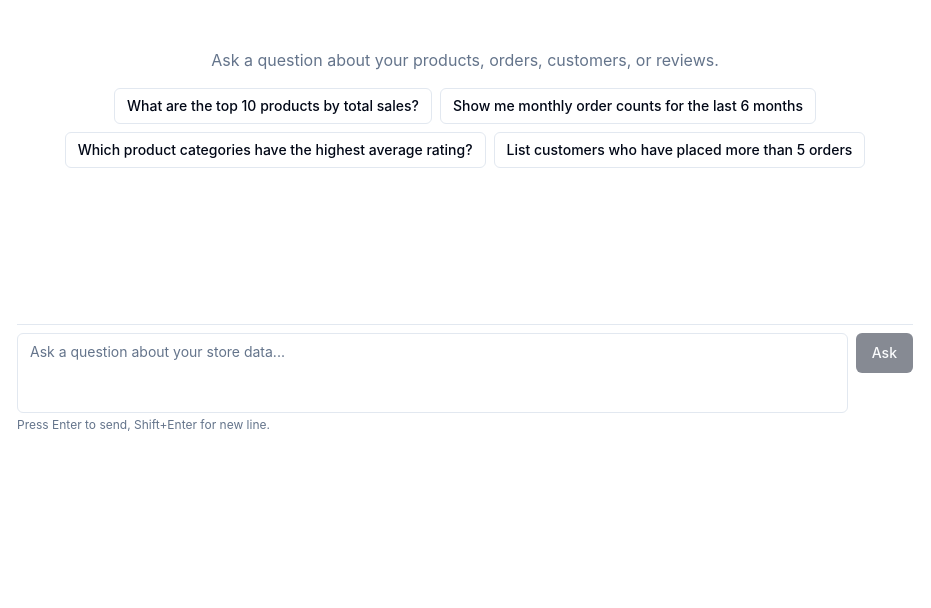
Test: AiAnalyticsChat › renders user message and assistant result on success
Type "Top products?" into the text box with placeholder "Ask a question about your store data..." at (432, 373), box [17,333,848,413]
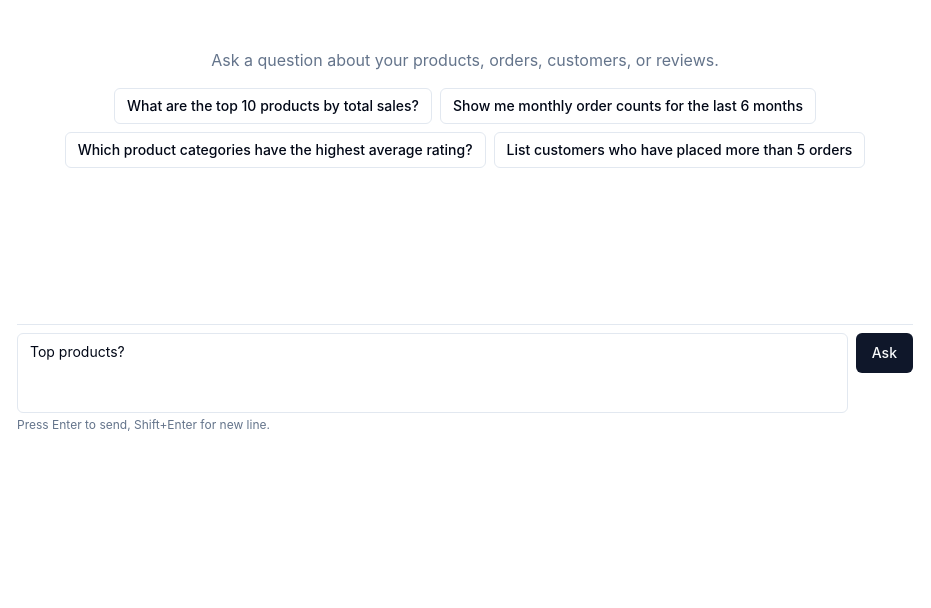
Click the button "Ask" at (884, 353), box [856,333,913,373]
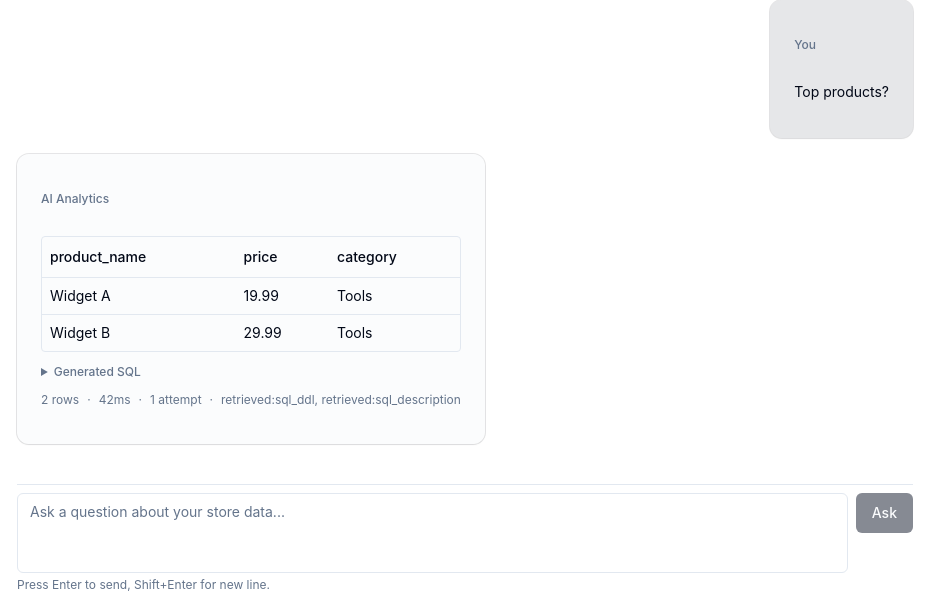
expect the text "Top products?" is shown: met, box [794,82,889,102]
expect the column heading "product_name" is shown: met, box [42,237,236,277]
expect the column heading "price" is shown: met, box [236,237,329,277]
